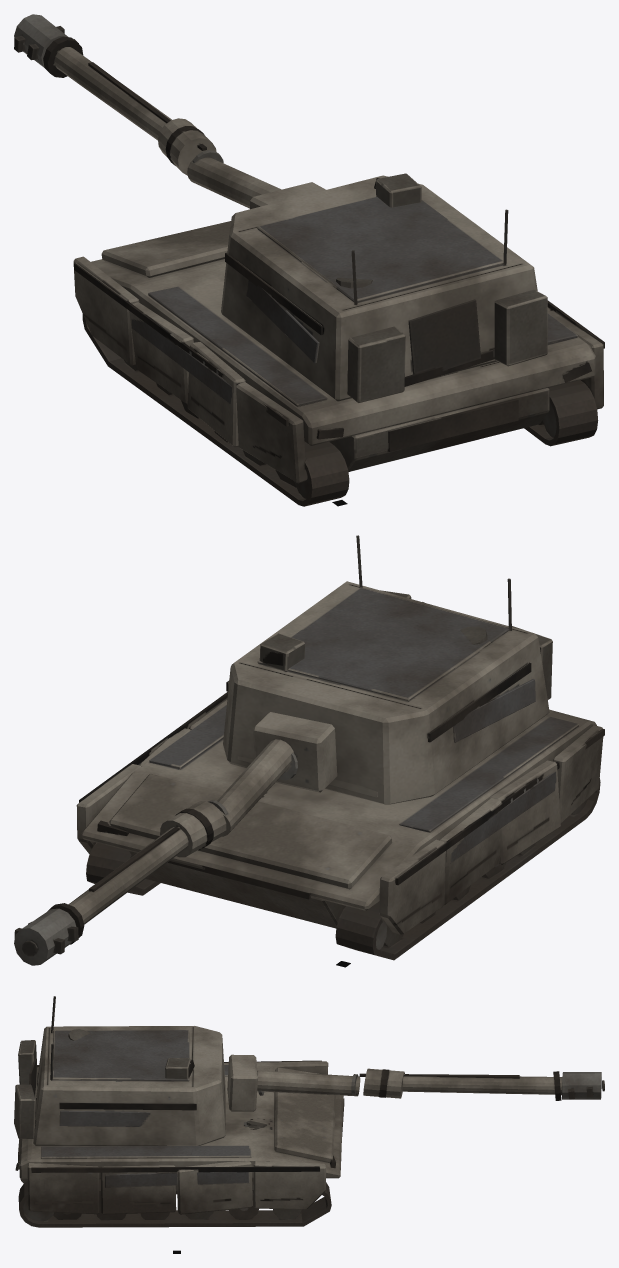
Rendered from ord_verdict_wreck.fbx.
The picture shows the model from 3 angles, top to bottom: view 1: azimuth 30°, elevation 25°; view 2: azimuth 150°, elevation 25°; view 3: azimuth 270°, elevation 25°; orthographic projection. The views are drawn at different scales.
Visible parts, largest first — view 1: turret_bar, base_bar, barrel_bar, trackL_bar, trackR_bar; view 2: base_bar, turret_bar, barrel_bar, trackL_bar, trackR_bar; view 3: base_bar, turret_bar, barrel_bar, trackR_bar.
Boxes of the visible parts, x1,y1,x2,y2 form: turret_bar: (221, 173, 547, 402); base_bar: (73, 221, 604, 483); barrel_bar: (14, 14, 325, 209); trackL_bar: (82, 314, 349, 506); trackR_bar: (524, 380, 598, 446); base_bar: (76, 692, 604, 934); turret_bar: (223, 535, 552, 804); barrel_bar: (14, 712, 337, 965); trackL_bar: (335, 778, 600, 960); trackR_bar: (86, 842, 160, 895); base_bar: (15, 1060, 344, 1214); turret_bar: (14, 996, 225, 1145); barrel_bar: (227, 1054, 604, 1111); trackR_bar: (18, 1178, 331, 1227).
Bounding box in the file's own units: 648 × 647 × 1484.
2 materials, 2 textured.
